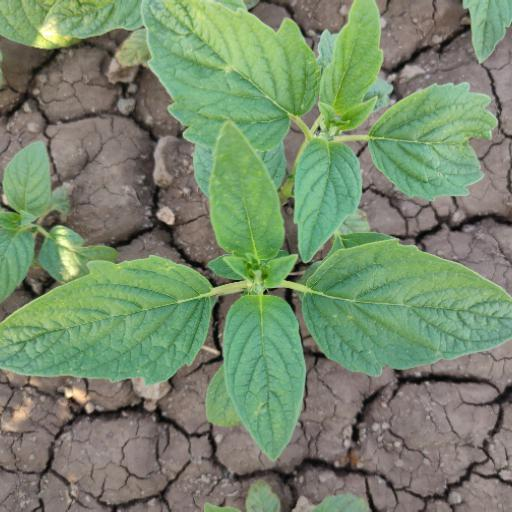crop: (18, 146, 512, 447), (111, 1, 512, 253)
